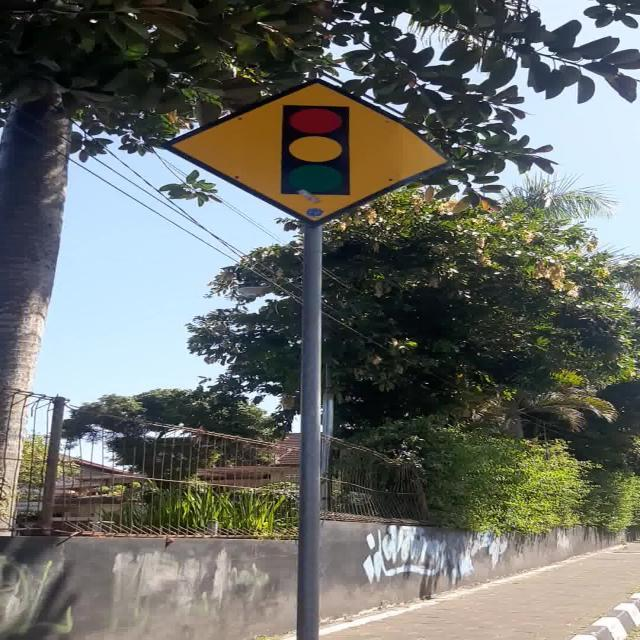Lampu Lalu Lintas: (163, 78, 451, 226)
